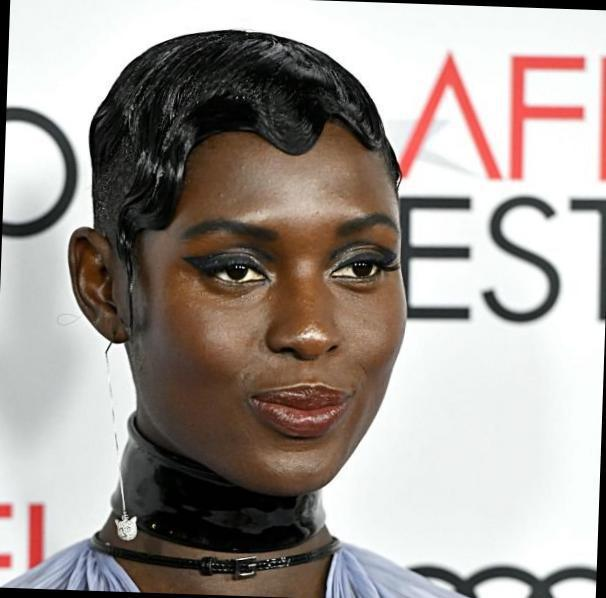Sober: (135, 133, 400, 468)
